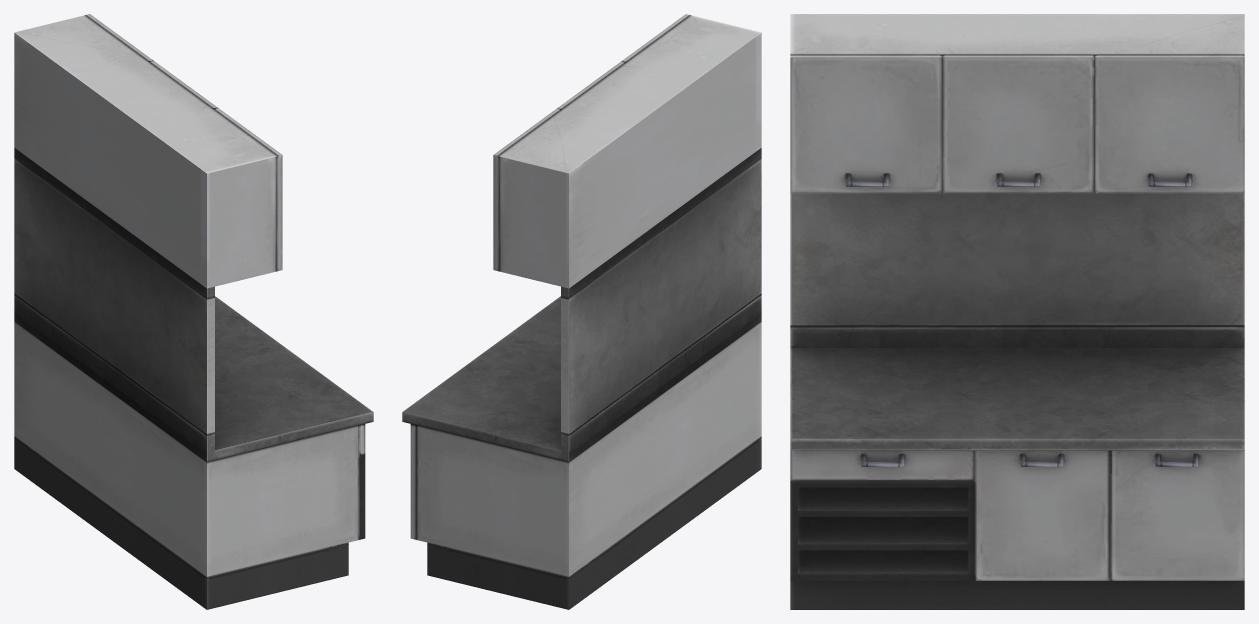
The model's file is Kitchen08.FBX.
The picture shows the model from 3 angles, left to right: view 1: azimuth 30°, elevation 25°; view 2: azimuth 150°, elevation 25°; view 3: azimuth 270°, elevation 25°; orthographic projection. The views are drawn at different scales.
Visible parts, largest first — view 1: Kitchen08; view 2: Kitchen08; view 3: Kitchen08.
Part boxes in pixels (bbox=[...]): Kitchen08: bbox=[14, 14, 373, 609]; Kitchen08: bbox=[402, 14, 761, 609]; Kitchen08: bbox=[790, 14, 1244, 609].
Bounding box in the file's own units: 1 × 2.5 × 2.
